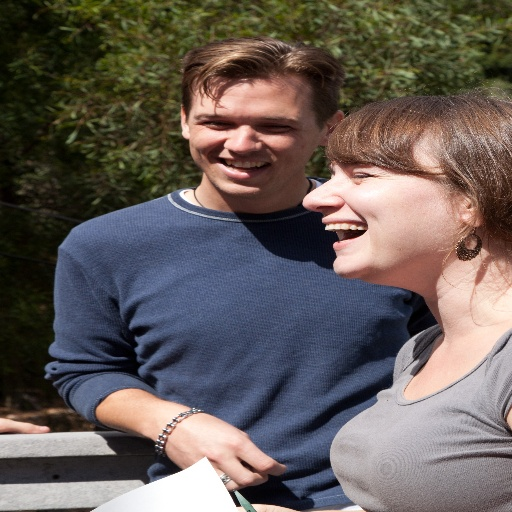hand: (157, 405, 281, 491), (0, 416, 51, 436), (237, 504, 301, 511)
